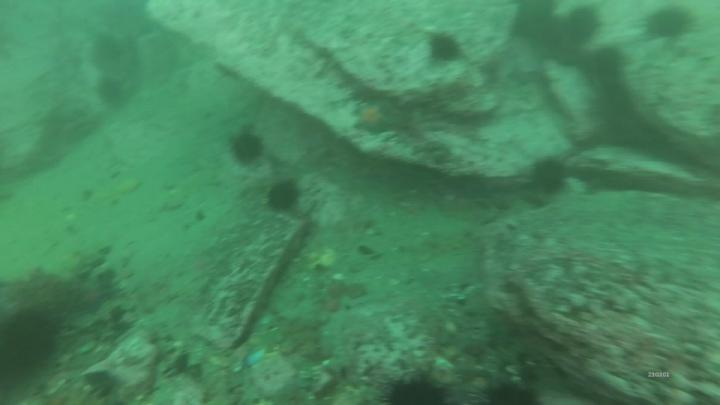echinus: (645, 8, 689, 37), (385, 384, 445, 405), (567, 8, 596, 47), (485, 386, 538, 405), (535, 161, 564, 192), (269, 183, 297, 210), (235, 137, 263, 164), (432, 38, 457, 60)
starfish: (353, 104, 398, 135), (80, 283, 117, 313)
